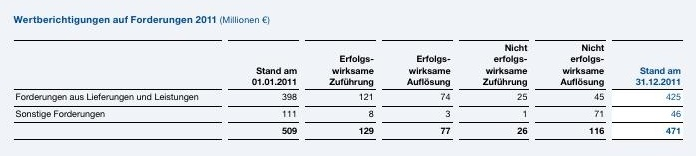table: (0, 0, 696, 156)
